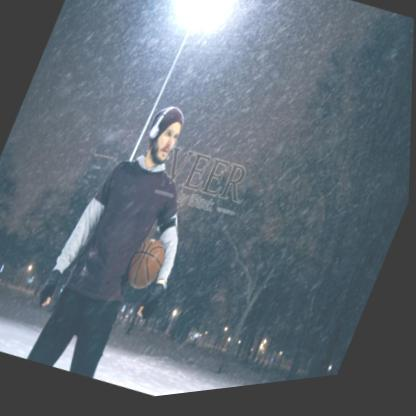basketball: (123, 236, 173, 300)
